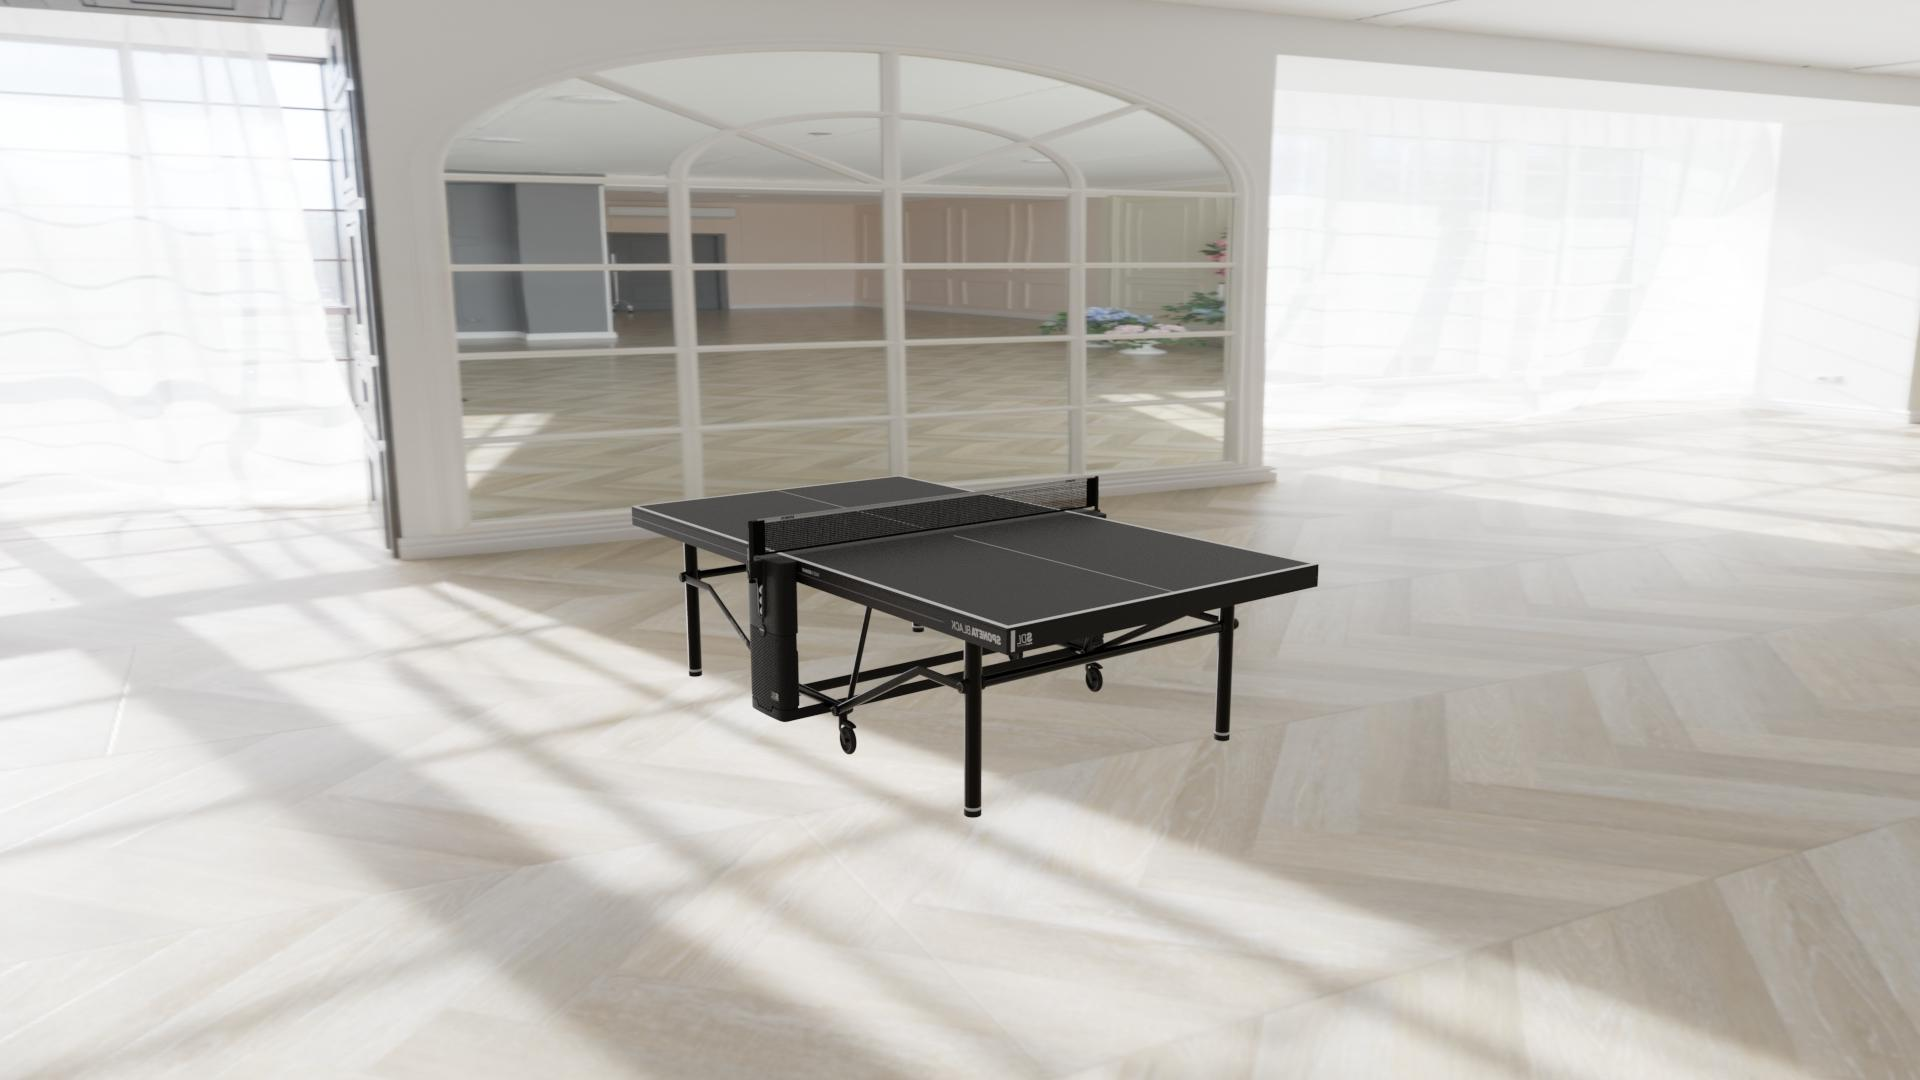table: (637, 476, 1311, 626)
